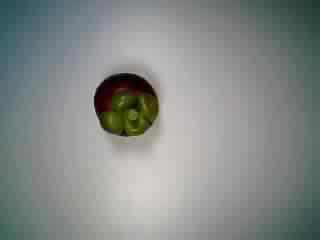mangosteen: (89, 69, 164, 142)
